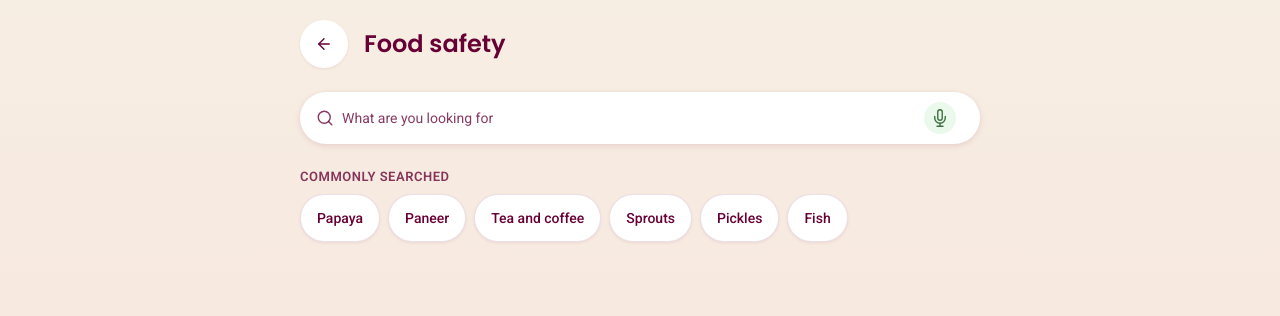
Test: FoodSafetyLookup › shows the calm not-found message instead of an empty list
Type "dragon fruit" into the search field labelled "What are you looking for" at (629, 118), box [342, 108, 916, 128]
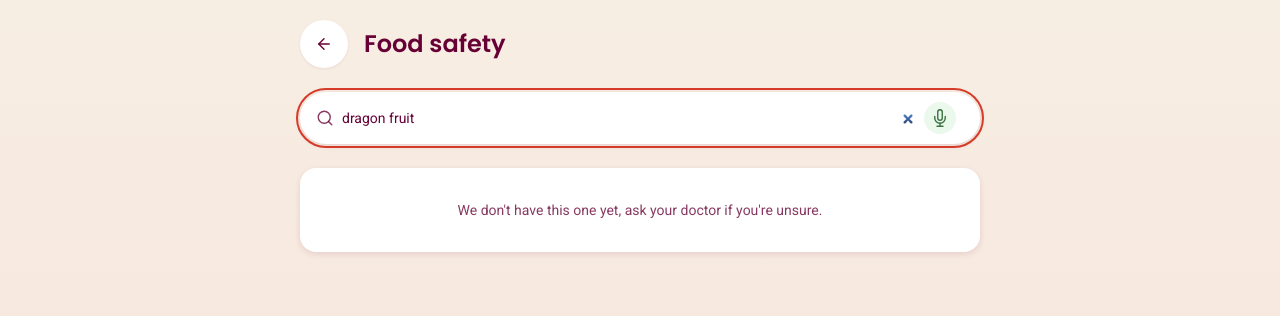
Result: the text "We don't have this one yet, ask your doctor if you're unsure." is shown at [458, 202, 822, 218]
